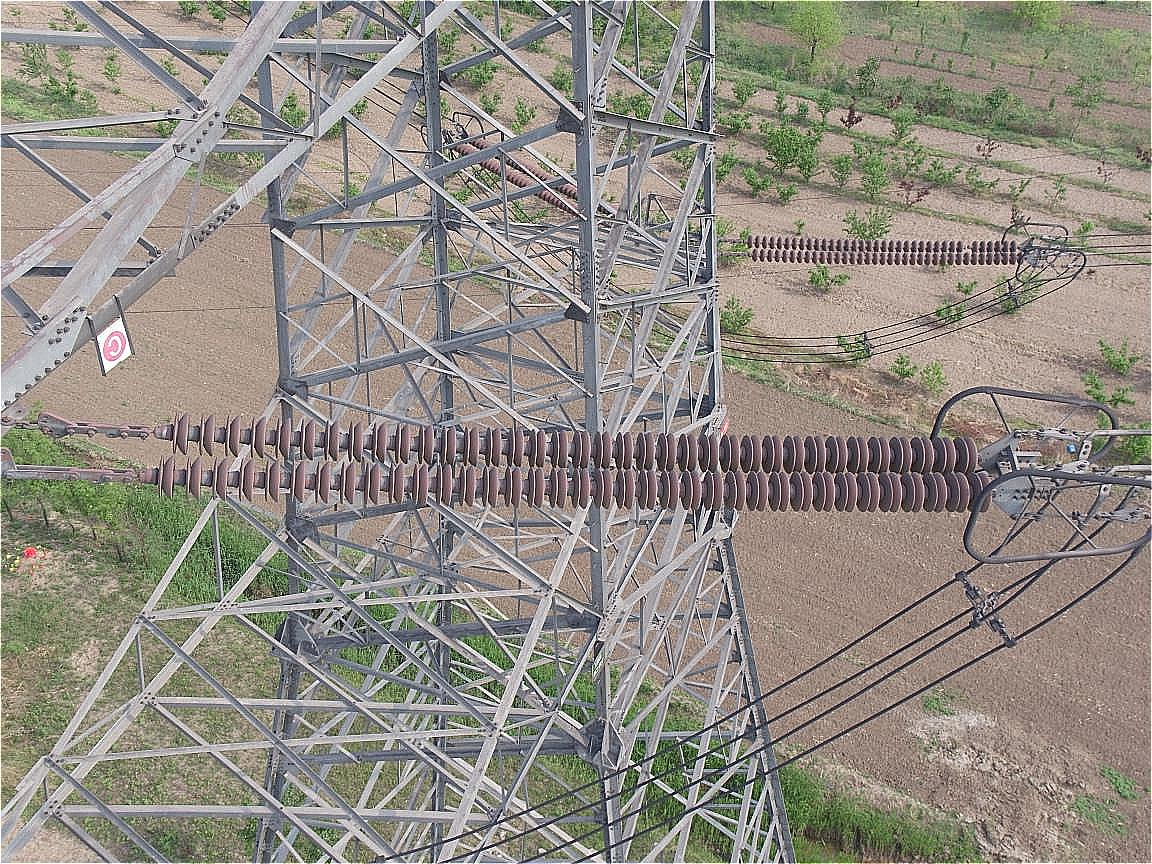insultor1: (722, 222, 1096, 284)
insultor2: (99, 392, 1052, 544)
